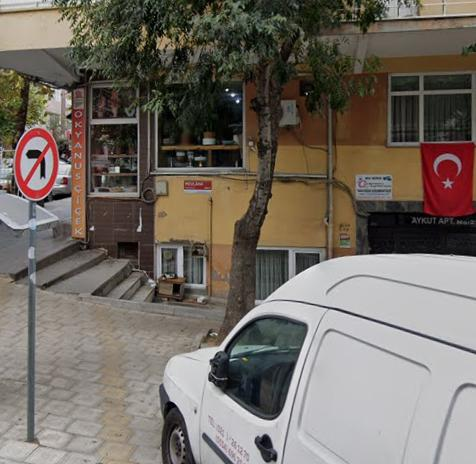leftturnsareforbidden: (13, 127, 60, 197)
